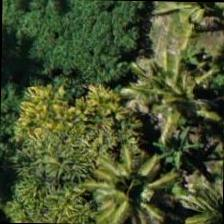Kelapa_Sawit: (86, 138, 178, 223), (170, 173, 224, 223)
